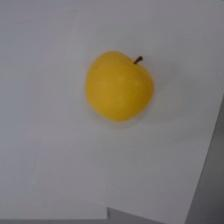yellow: (81, 45, 159, 126)
